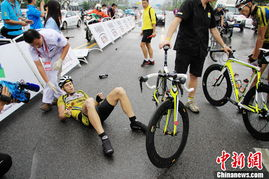10+: (1, 1, 269, 170)
down: (55, 74, 153, 159)
